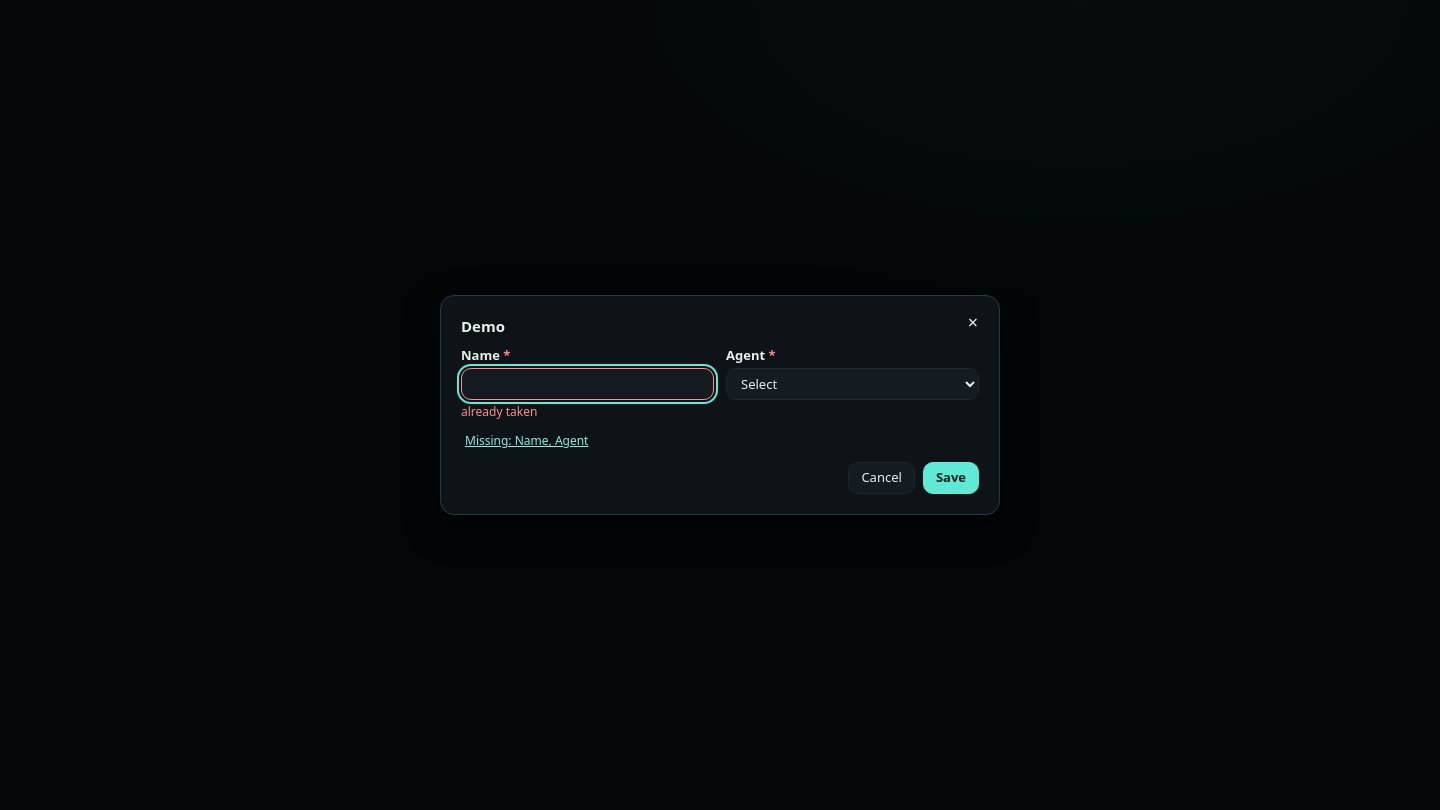
Test: server errors without details › clears a server field error once that field is edited
expect the text "already taken" is shown: met, box x1=461 y1=403 x2=537 y2=420
Type "z" into the field labelled "Name * already taken". click: (588, 384)
box: x1=461 y1=368 x2=714 y2=400
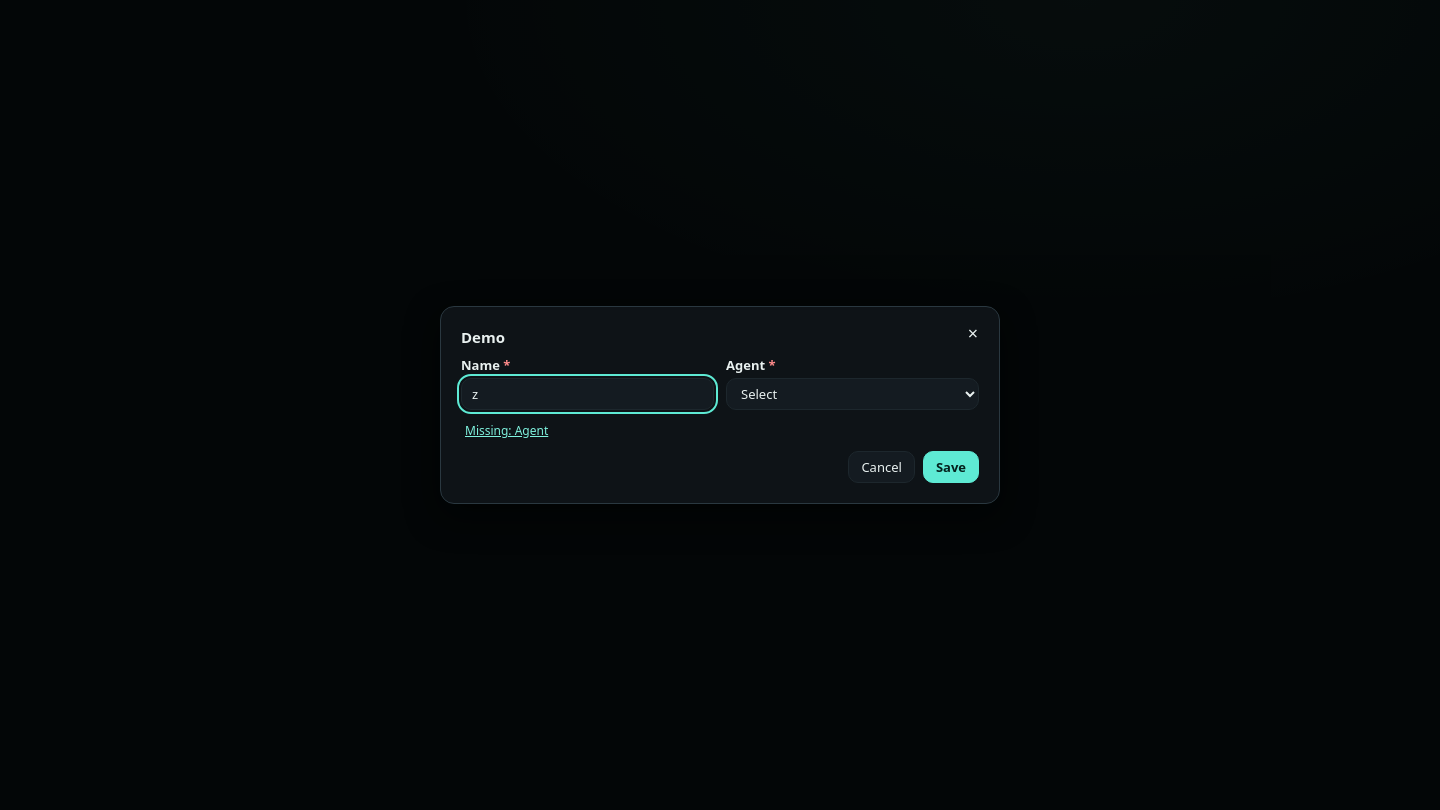
expect the text "already taken" is gone: met
